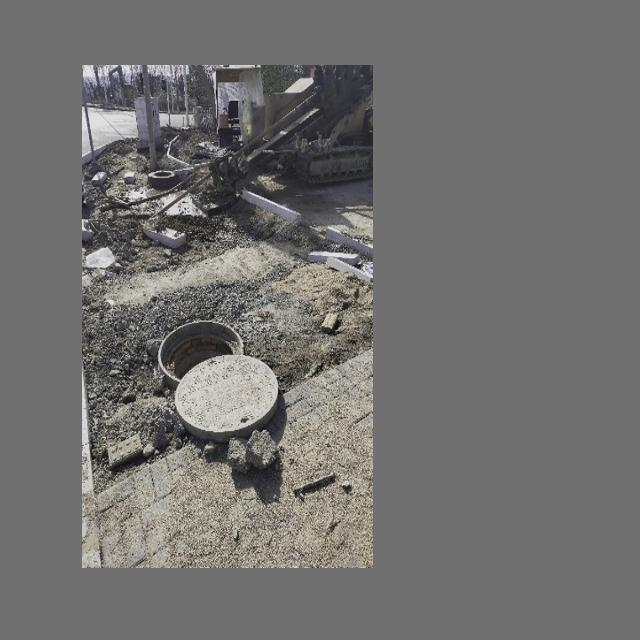uncovered: (157, 318, 278, 439)
